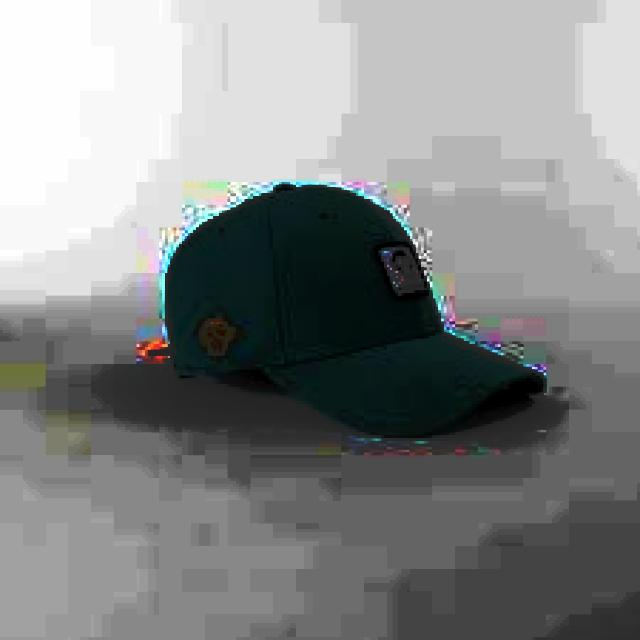TOPI: (157, 174, 546, 438)
